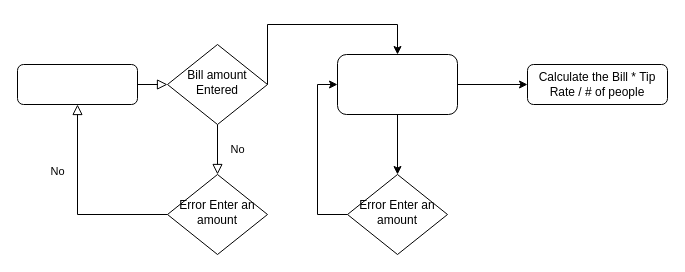
The diagram is 685 pixels wide and 272 high, and some of its shapes have lost their labels. Here are the shapes that lost their labels. From the top down, the box of each, then its label:
(16, 64, 138, 104): Bill Amount
(336, 54, 458, 114): # of people vale been entered
